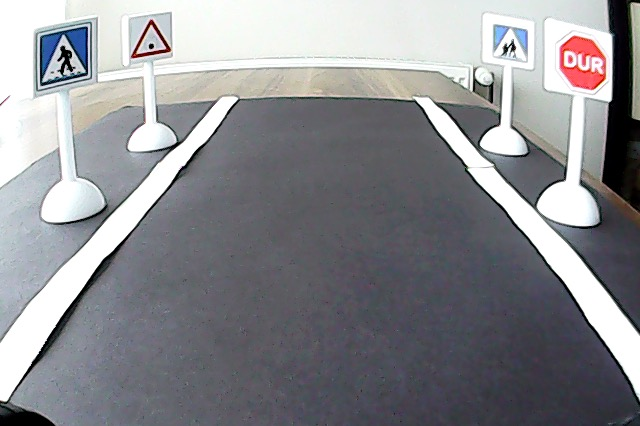green light: (131, 17, 171, 63)
pedestrian crossing: (33, 21, 92, 95)
school crossing: (488, 19, 531, 64)
stop sign: (549, 25, 612, 98)
